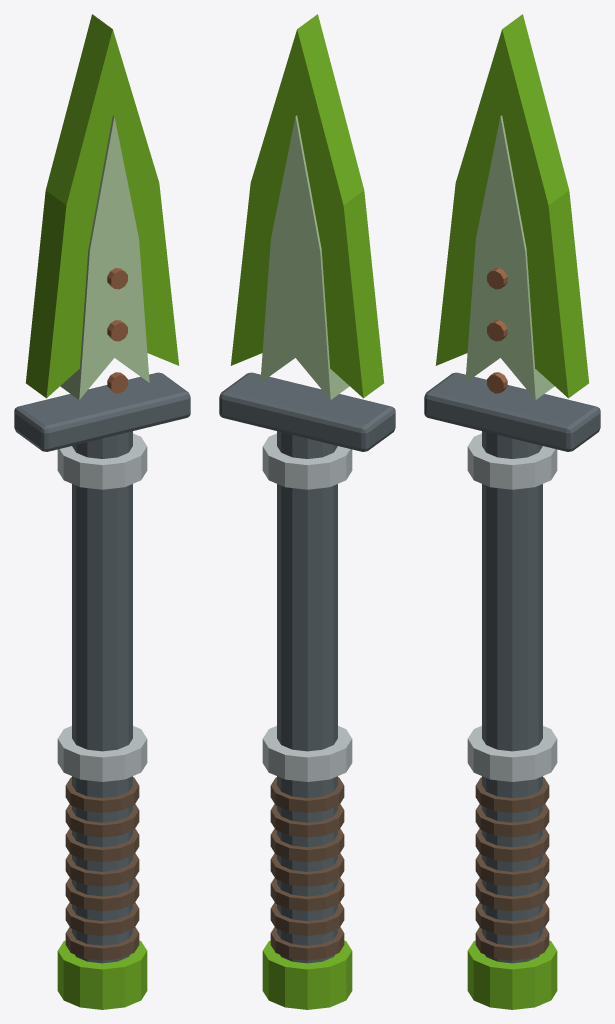
Rendered from Spear.fbx.
The picture shows the model from 3 angles, left to right: view 1: azimuth 30°, elevation 25°; view 2: azimuth 150°, elevation 25°; view 3: azimuth 330°, elevation 25°; orthographic projection.
Parts seen in each view (by area): view 1: Silhouette.002, Manche.002, Noyau.002, Garde.002, Pommeau.002, Collier.004, Collier.005, Bande_06.002, Bande_03.002, Bande_04.002, Bande_01.002, Bande_02.002 (+2 smaller); view 2: Silhouette.002, Manche.002, Noyau.002, Garde.002, Pommeau.002, Collier.004, Collier.005, Bande_06.002, Bande_03.002, Bande_04.002, Bande_01.002, Bande_02.002 (+2 smaller); view 3: Silhouette.002, Manche.002, Noyau.002, Garde.002, Pommeau.002, Collier.004, Collier.005, Bande_06.002, Bande_03.002, Bande_04.002, Bande_01.002, Bande_02.002 (+2 smaller).
Part boxes in pixels (bbox=[...]): Silhouette.002: bbox=[25, 14, 179, 398]; Manche.002: bbox=[72, 431, 132, 963]; Noyau.002: bbox=[60, 115, 149, 399]; Garde.002: bbox=[14, 372, 190, 451]; Pommeau.002: bbox=[57, 940, 147, 1009]; Collier.004: bbox=[57, 726, 147, 781]; Collier.005: bbox=[57, 433, 147, 489]; Bande_06.002: bbox=[65, 777, 139, 812]; Bande_03.002: bbox=[65, 853, 139, 886]; Bande_04.002: bbox=[65, 828, 139, 862]; Bande_01.002: bbox=[65, 902, 139, 935]; Bande_02.002: bbox=[65, 878, 139, 911]; Silhouette.002: bbox=[230, 14, 384, 398]; Manche.002: bbox=[277, 431, 337, 963]; Noyau.002: bbox=[260, 115, 349, 399]; Garde.002: bbox=[219, 372, 395, 451]; Pommeau.002: bbox=[262, 940, 352, 1009]; Collier.004: bbox=[262, 726, 352, 781]; Collier.005: bbox=[262, 433, 352, 489]; Bande_06.002: bbox=[270, 777, 344, 812]; Bande_03.002: bbox=[270, 853, 344, 886]; Bande_04.002: bbox=[270, 828, 344, 862]; Bande_01.002: bbox=[270, 902, 344, 935]; Bande_02.002: bbox=[270, 878, 344, 911]; Silhouette.002: bbox=[435, 14, 589, 398]; Manche.002: bbox=[482, 431, 542, 963]; Noyau.002: bbox=[465, 115, 554, 399]; Garde.002: bbox=[424, 372, 600, 451]; Pommeau.002: bbox=[467, 940, 557, 1009]; Collier.004: bbox=[467, 726, 557, 781]; Collier.005: bbox=[467, 433, 557, 489]; Bande_06.002: bbox=[475, 777, 549, 812]; Bande_03.002: bbox=[475, 853, 549, 886]; Bande_04.002: bbox=[475, 828, 549, 862]; Bande_01.002: bbox=[475, 902, 549, 935]; Bande_02.002: bbox=[475, 878, 549, 911].
Size of the model in its own units: 54 by 335 by 28.
